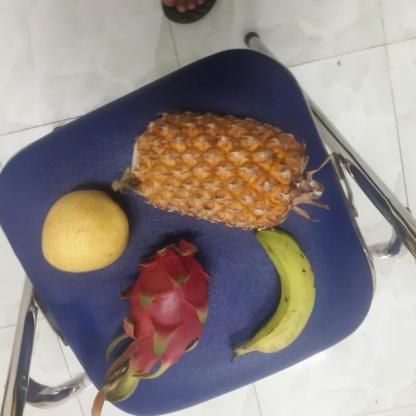banana: (234, 234, 319, 356)
pear: (41, 190, 134, 272)
pineapple: (121, 110, 321, 229)
pitaya: (114, 242, 216, 370)
